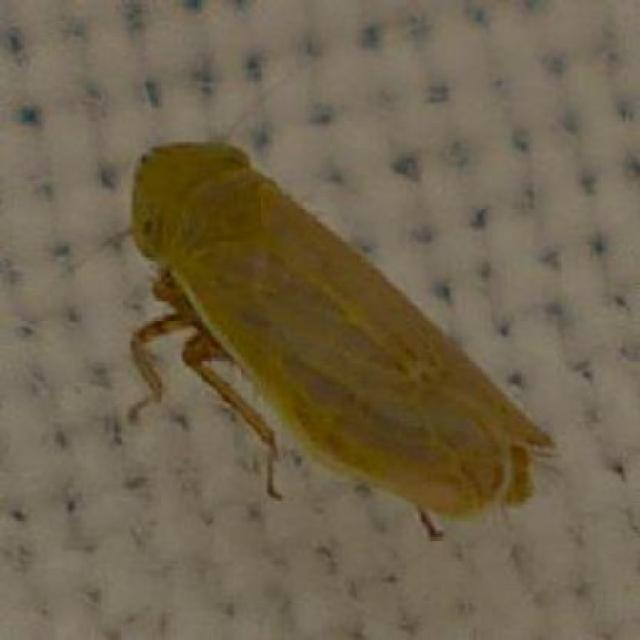green-leafhopper: (132, 142, 548, 523)
